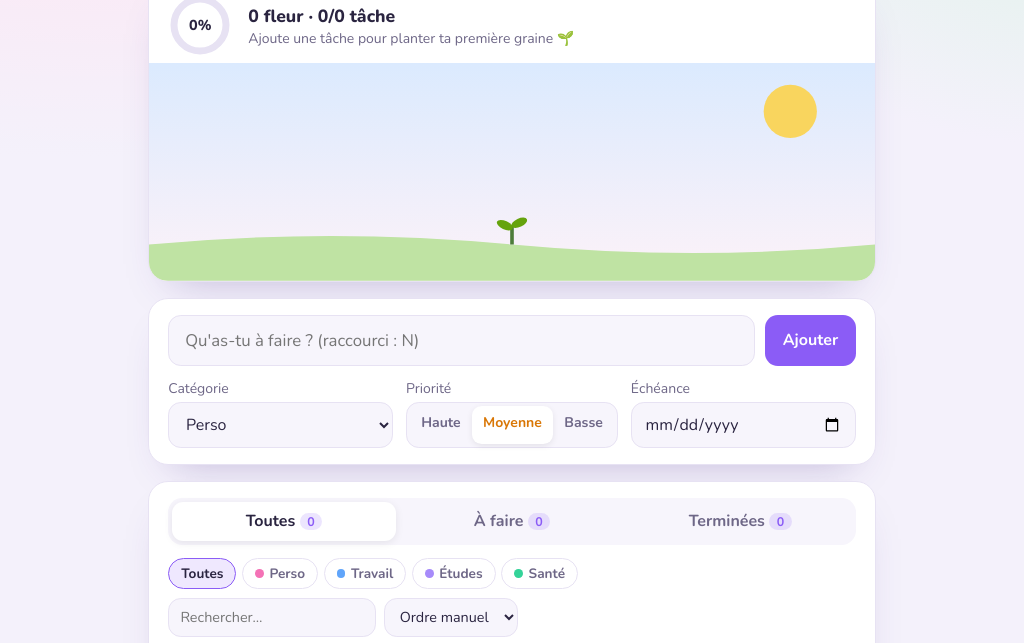
Test: Bloom app › saves tasks in localStorage
Type "Persistante" into the field named "Nouvelle tâche". click: (462, 340)
box: [168,315,756,366]
Then press Enter
(page scrolled)
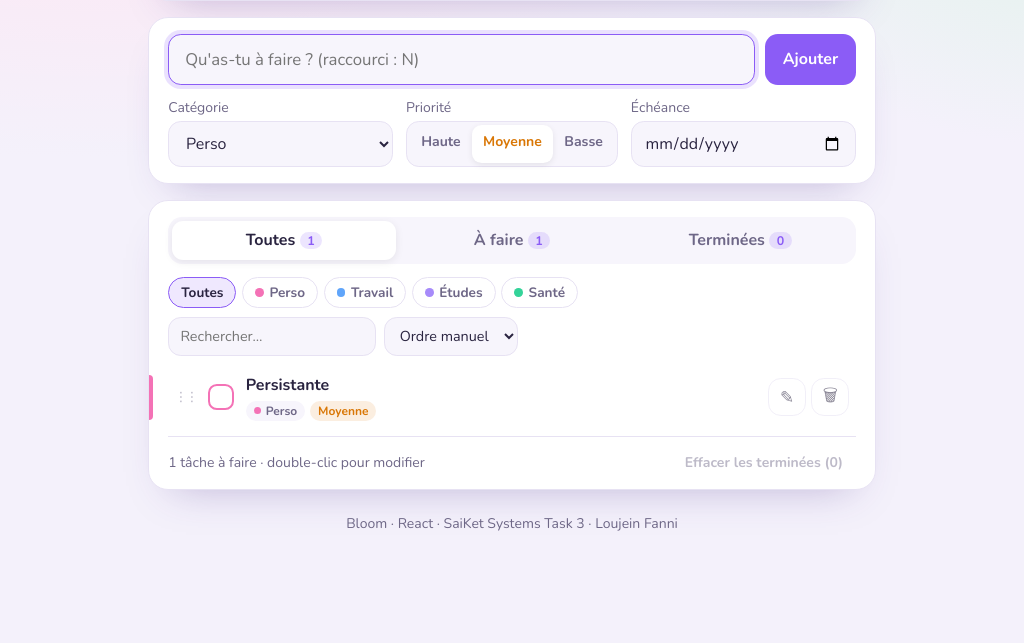
expect the text "Persistante" is shown: met, box [246,374,329,396]
